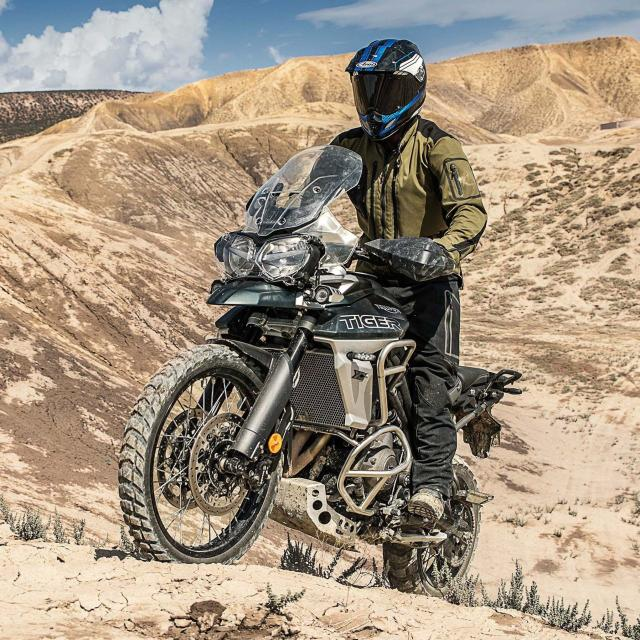motorcycle: (119, 40, 519, 595)
